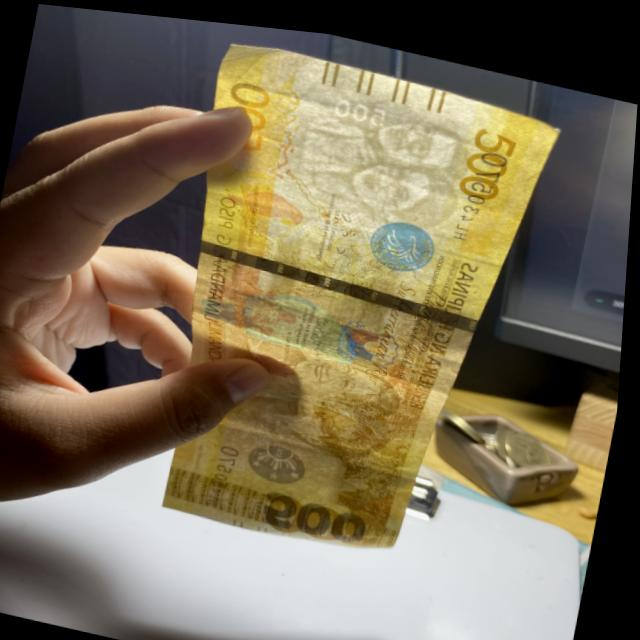500_big_parrot: (196, 265, 392, 371)
500_parrot_watermark: (224, 176, 317, 229)
value_watermark: (330, 83, 392, 123)
watermark: (290, 84, 466, 227)
